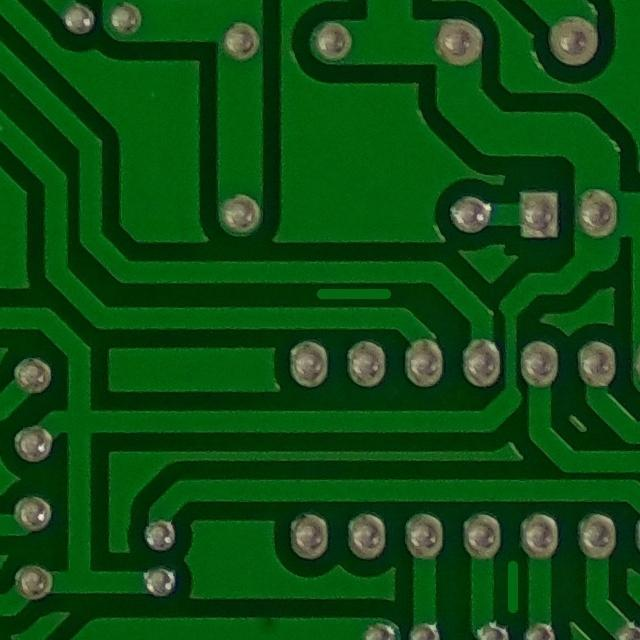spurious_copper: (307, 269, 402, 318), (491, 551, 533, 619)
